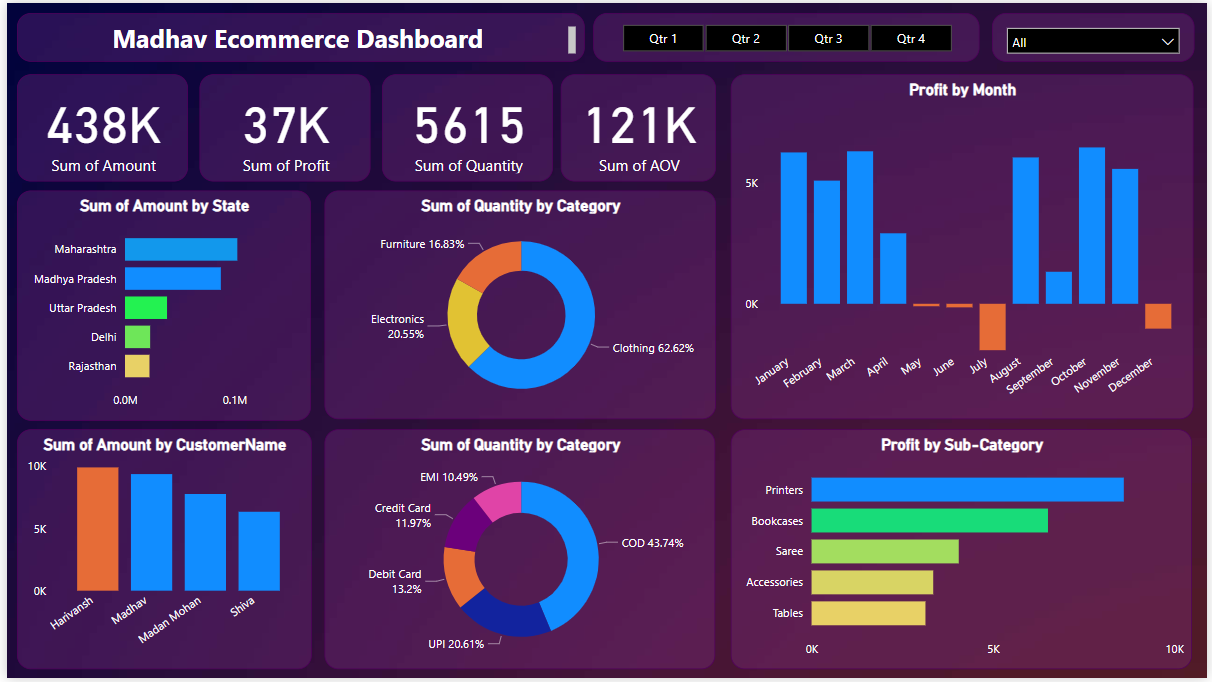

This screenshot's page, from the dashboard's own definition file:
{"tool":"powerbi","page":{"name":"Ecommerce_Dashboard","canvas":[1280,720],"ordinal":0},"visuals":[{"type":"textbox","box":[10.7,10.7,605.3,52],"z":0},{"type":"columnChart","title":" Profit by Month","fields":{"Y":["Details.Profit"],"Category":["Orders.Order Date.Variation.Date Hierarchy.Month"]},"box":[772,76,493.3,368],"z":1000},{"type":"barChart","title":" Profit by Sub-Category","fields":{"Category":["Details.Sub-Category"],"Y":["Details.Profit"]},"box":[772,454.7,492,256],"z":2000},{"type":"donutChart","title":"Sum of Quantity by Category","fields":{"Category":["Details.Category"],"Y":["Details.Quantity"]},"box":[338.7,200,417.3,244],"z":3000},{"type":"donutChart","title":"Sum of Quantity by Category","fields":{"Category":["Details.PaymentMode"],"Y":["Details.Quantity"]},"box":[338.6,454.3,417.1,255.7],"z":4000},{"type":"card","fields":{"Values":["Details.Amount"]},"box":[10.7,76,182.7,114.7],"z":4001},{"type":"card","fields":{"Values":["Details.Profit"]},"box":[205.3,76,182.7,114.7],"z":4002},{"type":"card","fields":{"Values":["Details.Quantity"]},"box":[400,76,182.7,114.7],"z":4003},{"type":"card","fields":{"Values":["Details.AOV"]},"box":[590.7,76,165.3,114.7],"z":4004},{"type":"barChart","fields":{"Y":["Details.Amount"],"Category":["Orders.State"]},"box":[10.7,200,313.3,245.3],"z":4005},{"type":"columnChart","fields":{"Category":["Orders.CustomerName"],"Y":["Details.Amount"]},"box":[10,454,314,256],"z":4006},{"type":"slicer","fields":{"Values":["Orders.Order Date.Variation.Date Hierarchy.Quarter"]},"box":[625.3,10.7,412,52],"z":4007},{"type":"slicer","fields":{"Values":["Orders.State"]},"box":[1050.7,10.7,216,52],"z":4008}]}

Visuals, with their boxes in screenshot pixels (x1, y1, x2, y2), scaled from the page's 1280x720 canvas onto the 1212x682 screenshot:
textbox: x1=10 y1=10 x2=583 y2=59
" Profit by Month" columnChart: x1=731 y1=72 x2=1198 y2=421
" Profit by Sub-Category" barChart: x1=731 y1=431 x2=1197 y2=673
"Sum of Quantity by Category" donutChart: x1=321 y1=189 x2=716 y2=421
"Sum of Quantity by Category" donutChart: x1=321 y1=430 x2=716 y2=673
card - Details.Amount: x1=10 y1=72 x2=183 y2=181
card - Details.Profit: x1=194 y1=72 x2=367 y2=181
card - Details.Quantity: x1=379 y1=72 x2=552 y2=181
card - Details.AOV: x1=559 y1=72 x2=716 y2=181
barChart - Details.Amount x Orders.State: x1=10 y1=189 x2=307 y2=422
columnChart - Orders.CustomerName x Details.Amount: x1=9 y1=430 x2=307 y2=673
slicer - Orders.Order Date.Variation.Date Hierarchy.Quarter: x1=592 y1=10 x2=982 y2=59
slicer - Orders.State: x1=995 y1=10 x2=1199 y2=59
